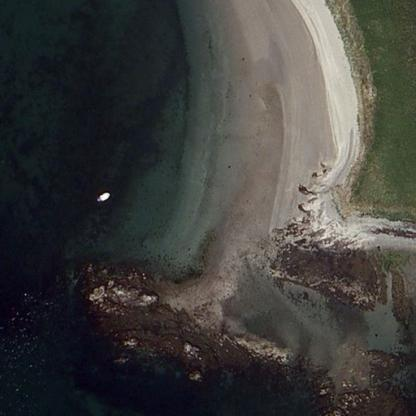ship: (90, 186, 114, 207)
